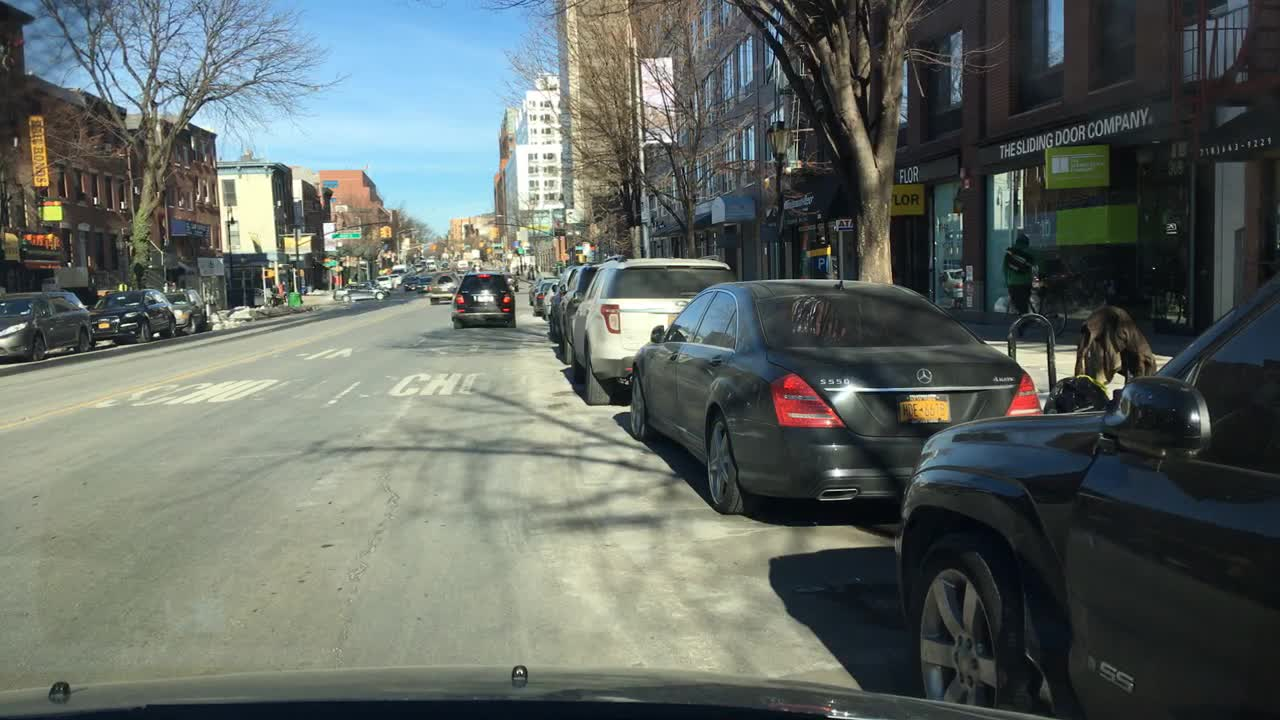bike: (1005, 273, 1074, 338)
car: (894, 270, 1279, 719), (622, 273, 1043, 519), (567, 255, 736, 406), (0, 291, 94, 361), (89, 285, 176, 344), (447, 268, 518, 329), (559, 262, 600, 352), (544, 267, 577, 335), (165, 289, 205, 336), (332, 278, 383, 304), (531, 276, 563, 317), (426, 272, 465, 304), (526, 271, 552, 303), (373, 274, 390, 292), (406, 272, 419, 294), (506, 268, 518, 291), (390, 273, 403, 286), (422, 278, 430, 294), (413, 262, 424, 271)
person: (1001, 230, 1036, 342)
traffic light: (262, 267, 275, 281), (576, 253, 586, 266), (384, 225, 391, 240), (379, 226, 384, 240)
traffic sign: (329, 230, 362, 239), (814, 257, 828, 272), (324, 257, 339, 269)
truck: (390, 263, 407, 278), (424, 253, 436, 271), (457, 257, 468, 273)
